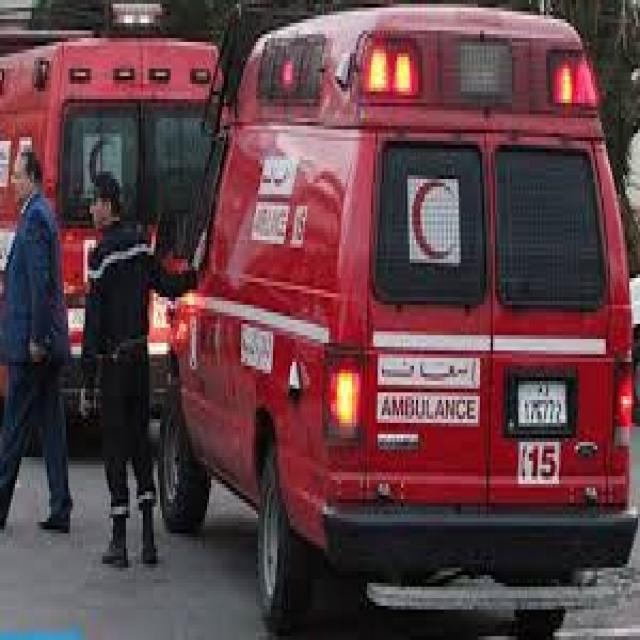ambulance: (162, 4, 636, 620)
